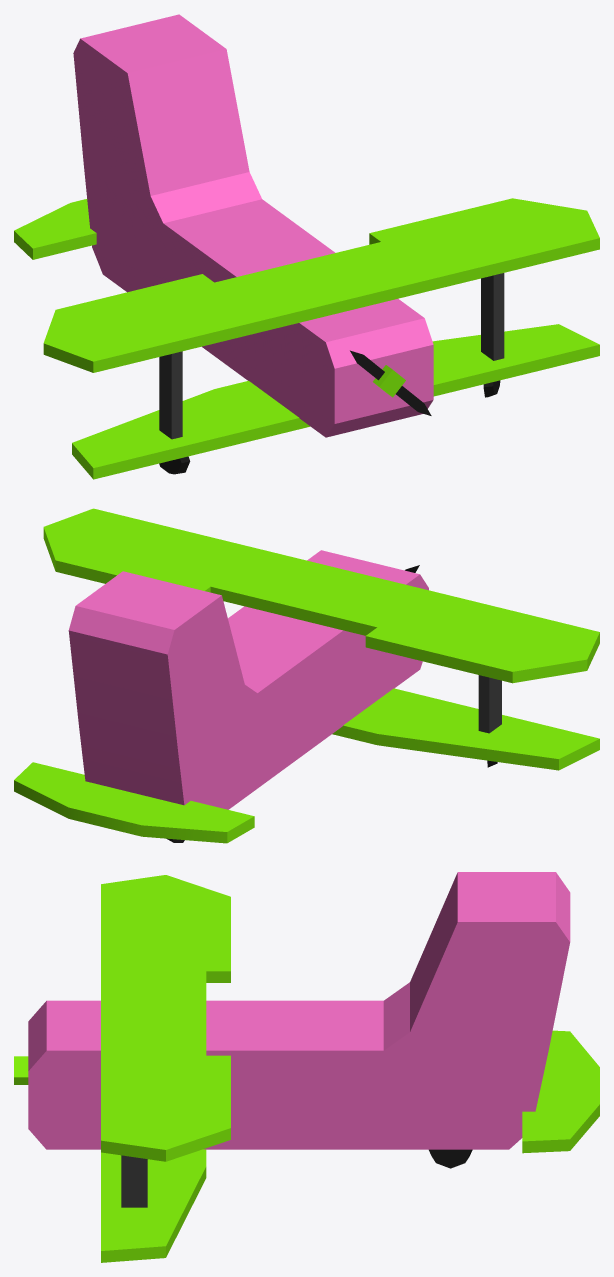
The model's file is Airplane_F.FBX.
3 views of the same model, one above another, from view 1: azimuth 30°, elevation 25°; view 2: azimuth 150°, elevation 25°; view 3: azimuth 270°, elevation 25° (orthographic). The views are drawn at different scales.
Parts seen in each view (by area): view 1: Airplane; view 2: Airplane; view 3: Airplane.
Part boxes in pixels (box(x1,y1,x2,y2)): Airplane: box(14, 14, 599, 479); Airplane: box(14, 508, 599, 843); Airplane: box(14, 872, 599, 1262).
Size of the model in its own units: 150 by 68.74 by 135.
